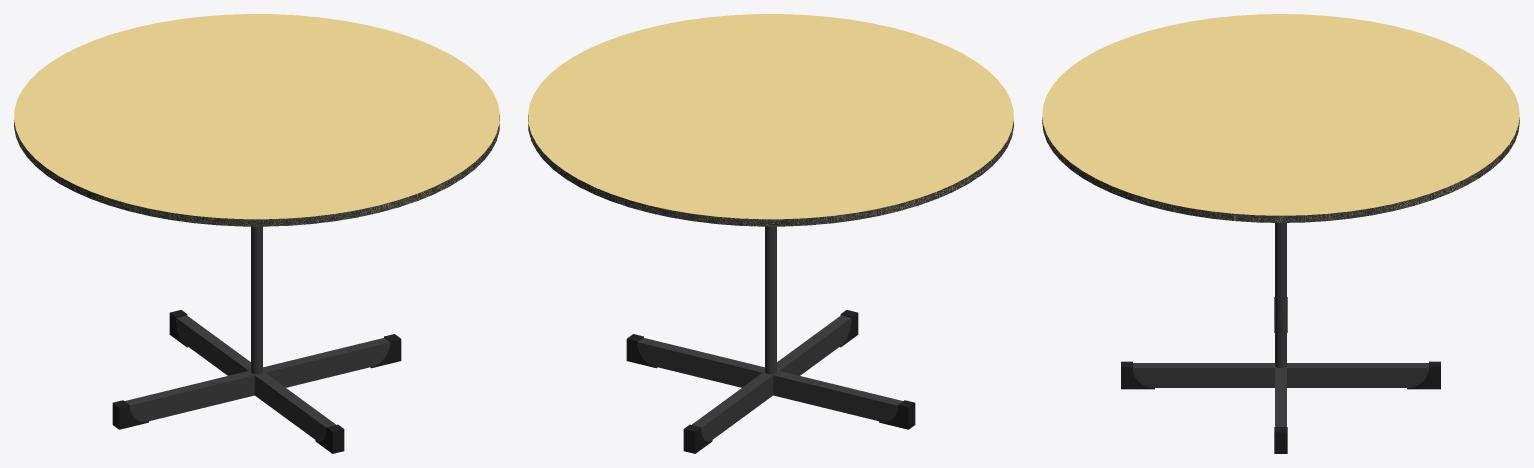
The model's file is lar_table_circular.dae.
3 views of the same model, side by side, from view 1: azimuth 30°, elevation 25°; view 2: azimuth 150°, elevation 25°; view 3: azimuth 270°, elevation 25° (orthographic).
Visible parts, largest first — view 1: Component_17 (×4), Component_19, Component_20; view 2: Component_17 (×4), Component_19, Component_18; view 3: Component_17 (×4), Component_18, Component_20.
Part boxes in pixels (x1,y1,x2,y2): Component_17 (×4): [14, 14, 499, 441]; Component_19: [112, 400, 148, 429]; Component_20: [315, 424, 344, 453]; Component_17 (×4): [528, 14, 1013, 441]; Component_19: [879, 400, 915, 429]; Component_18: [683, 424, 712, 453]; Component_17 (×4): [1042, 14, 1519, 426]; Component_18: [1407, 361, 1440, 389]; Component_20: [1121, 361, 1154, 389].
Bounding box in the file's own units: 47.24 × 47.24 × 29.64.
